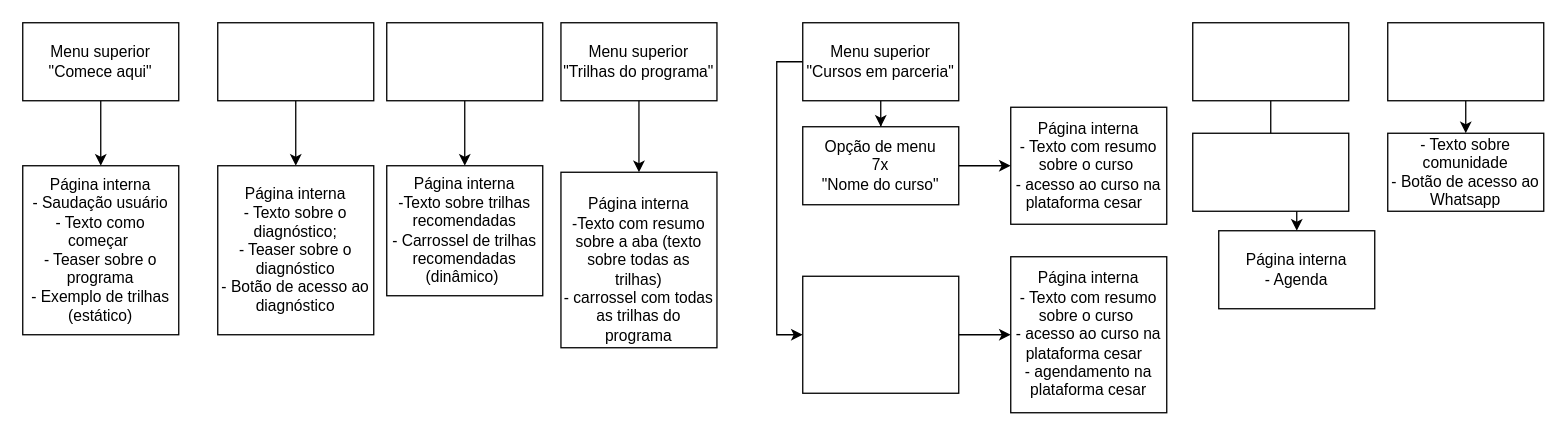
This 1567x435 diagram has some shape labels left out. The shapes that lost their labels are listed below. From the top down, each one's centre as x and y in pixels, then its label:
(295,61): Menu superior "Faça seu Diagnóstico"
(464,61): Menu superior "Trilhas recomendadas"
(1270,61): Menu superior Mentoria
(1465,61): Menu superior Comunidade
(1270,171): Opção de menu - Agendamento de sessões
(880,334): Opção de menu Nome do curso (síncrono)
